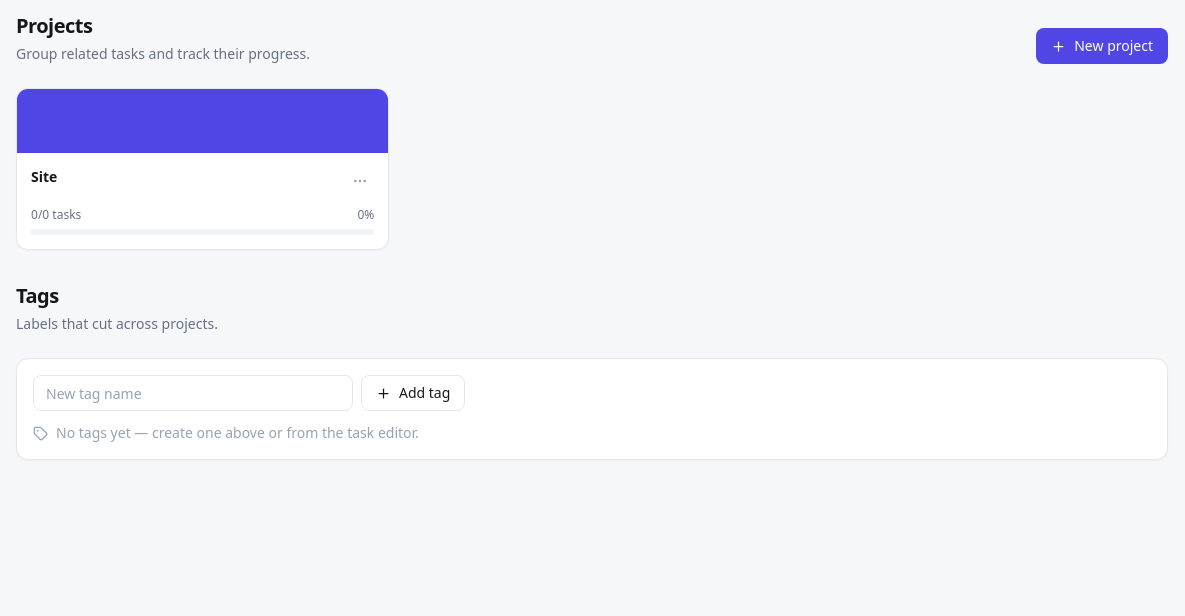
Test: project detail › goes back to the grid
The width and height of the screenshot is (1185, 616).
Click the button named "Open Site" at (203, 121), box [17,89,388,153]
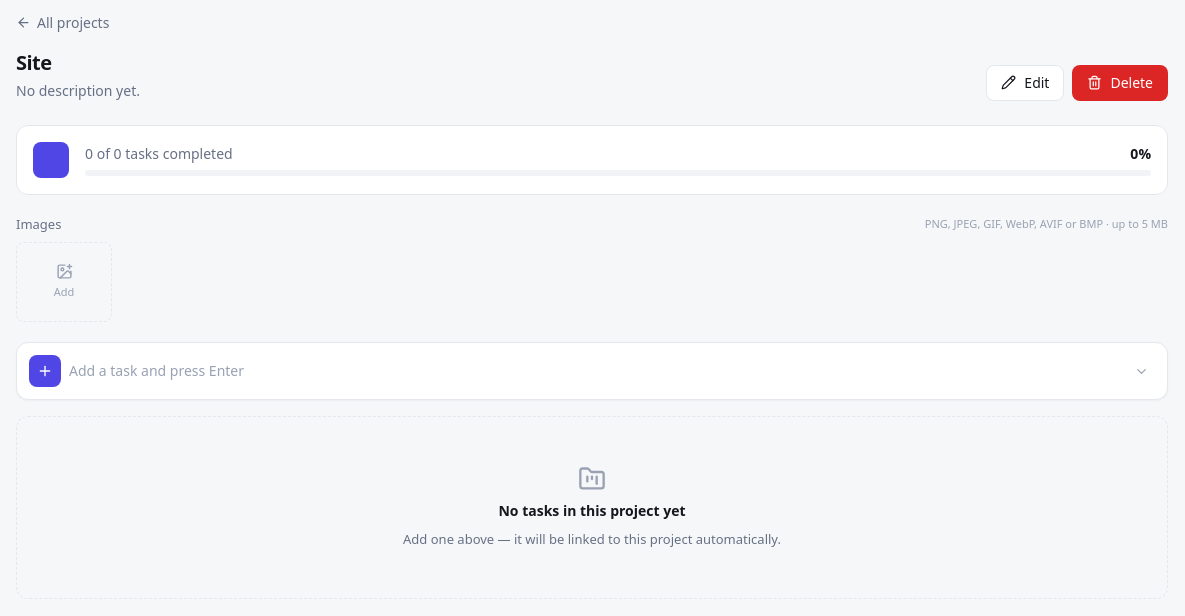
Click the button "All projects" at (63, 22), box [16,12,109,32]
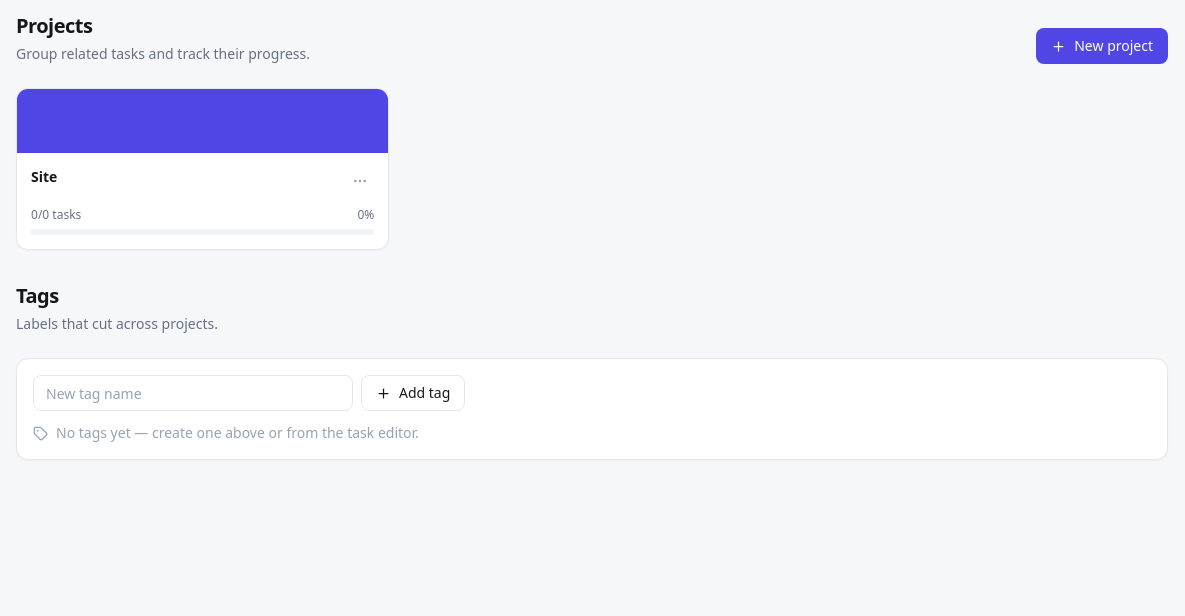
Result: the button named "Open Site" is shown at [17,89,388,153]
